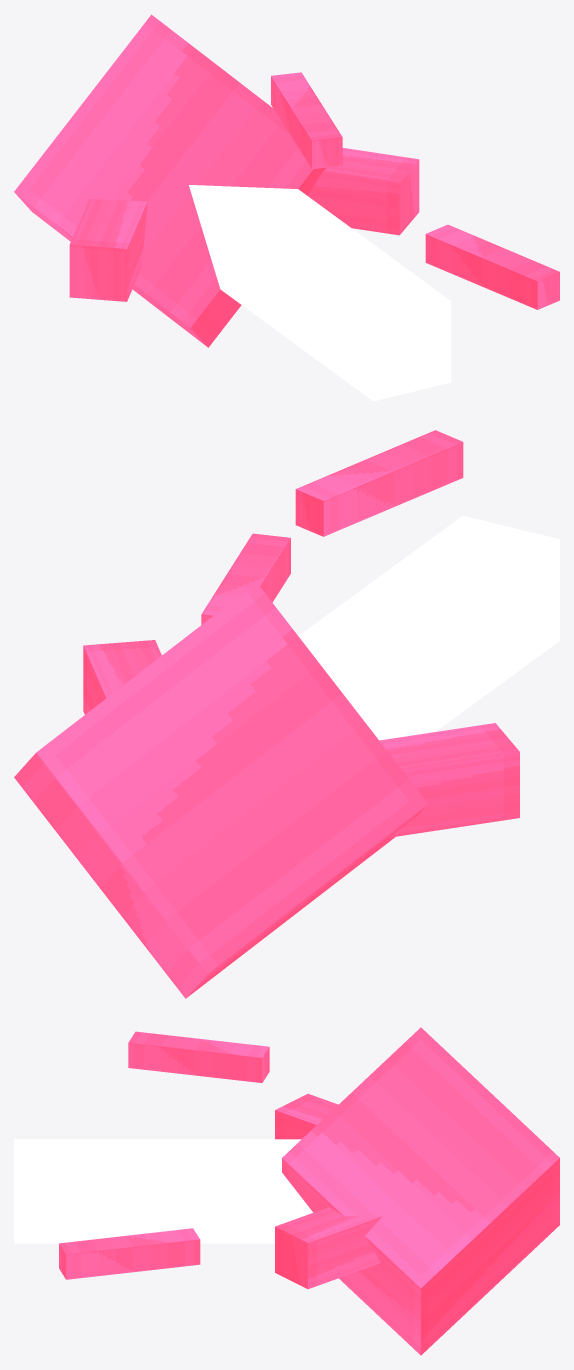
Rendered from tower_shot_red.gltf.
The picture shows the model from 3 angles, top to bottom: view 1: azimuth 30°, elevation 25°; view 2: azimuth 150°, elevation 25°; view 3: azimuth 270°, elevation 25°; orthographic projection. The views are drawn at different scales.
Parts seen in each view (by area): view 1: core_mesh; view 2: core_mesh; view 3: core_mesh.
Boxes of the visible parts, x1,y1,x2,y2 form: core_mesh: (14,14,559,401); core_mesh: (14,430,559,998); core_mesh: (14,1027,559,1355).
Size of the model in its own units: 0.4812 by 0.4535 by 0.7378.
Materials: 1 (1 with a texture image).
